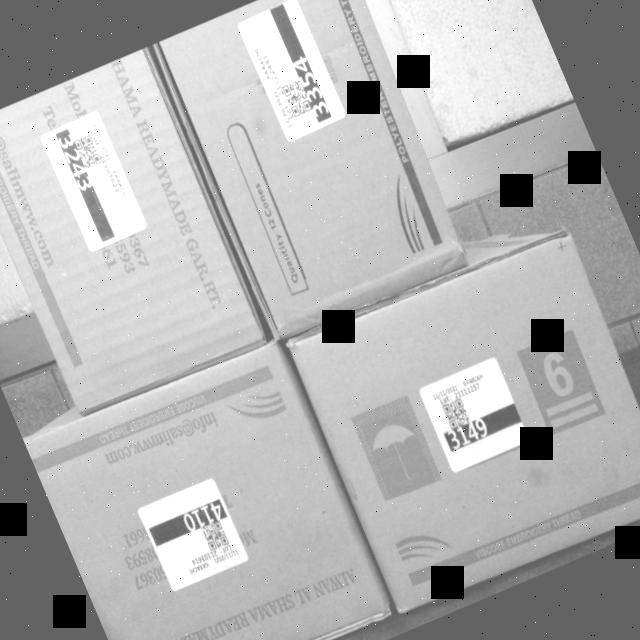box: (279, 220, 640, 619), (26, 341, 394, 640), (156, 0, 473, 340), (0, 44, 275, 423)
